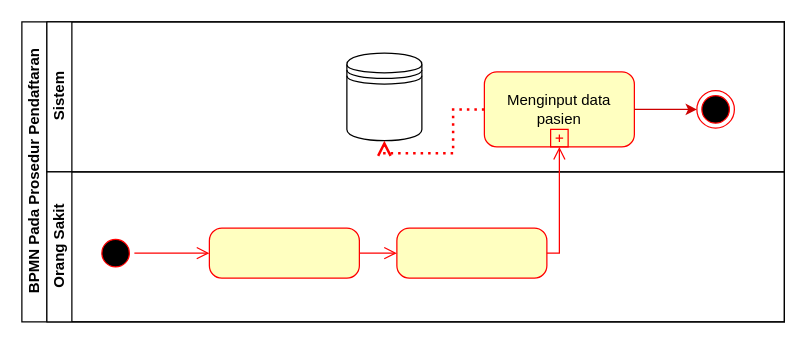
The diagram is 806 pixels wide and 344 high, and some of its shapes have lost their labels. Each missing label, with the centre of its shape:
Mendaftar: point 283,252
Mengisi data: point 471,252
